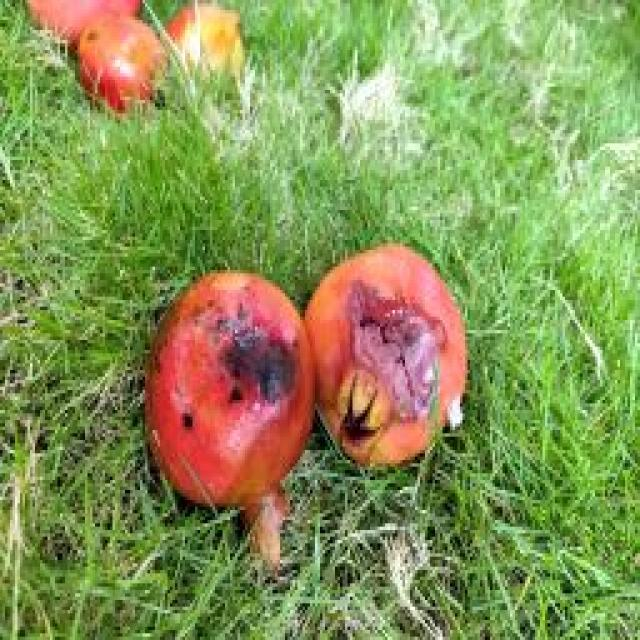Rotten: (148, 266, 310, 514), (307, 243, 472, 472)
